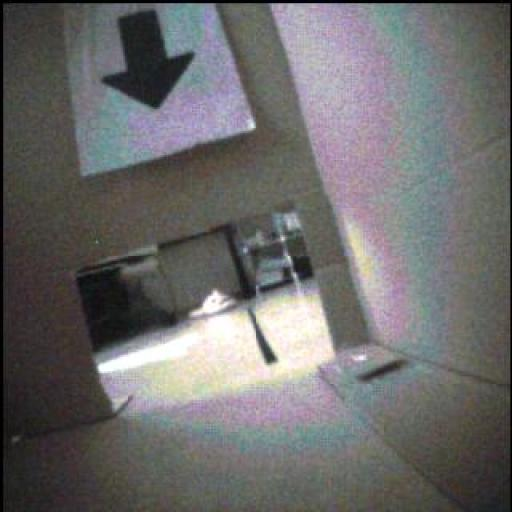arrow: (104, 12, 195, 110)
